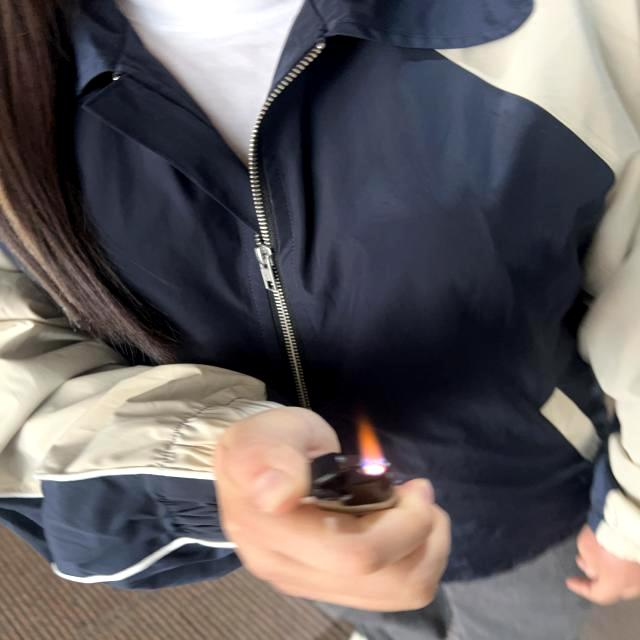fire: (354, 416, 388, 464)
